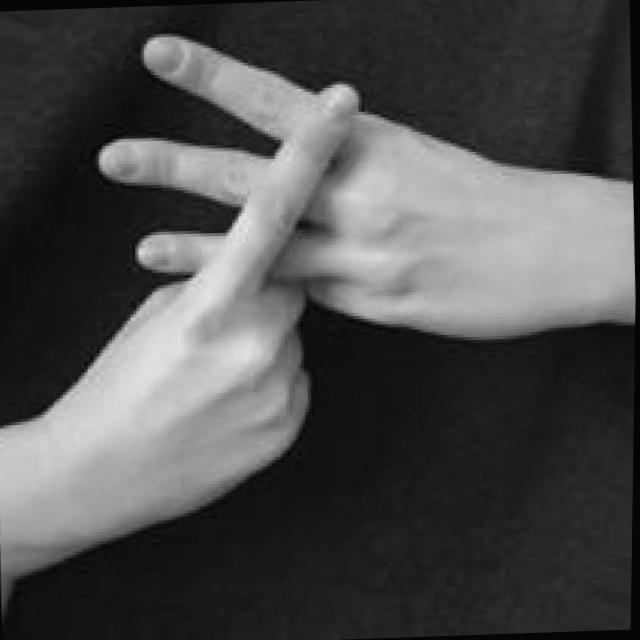E: (72, 14, 614, 545)
